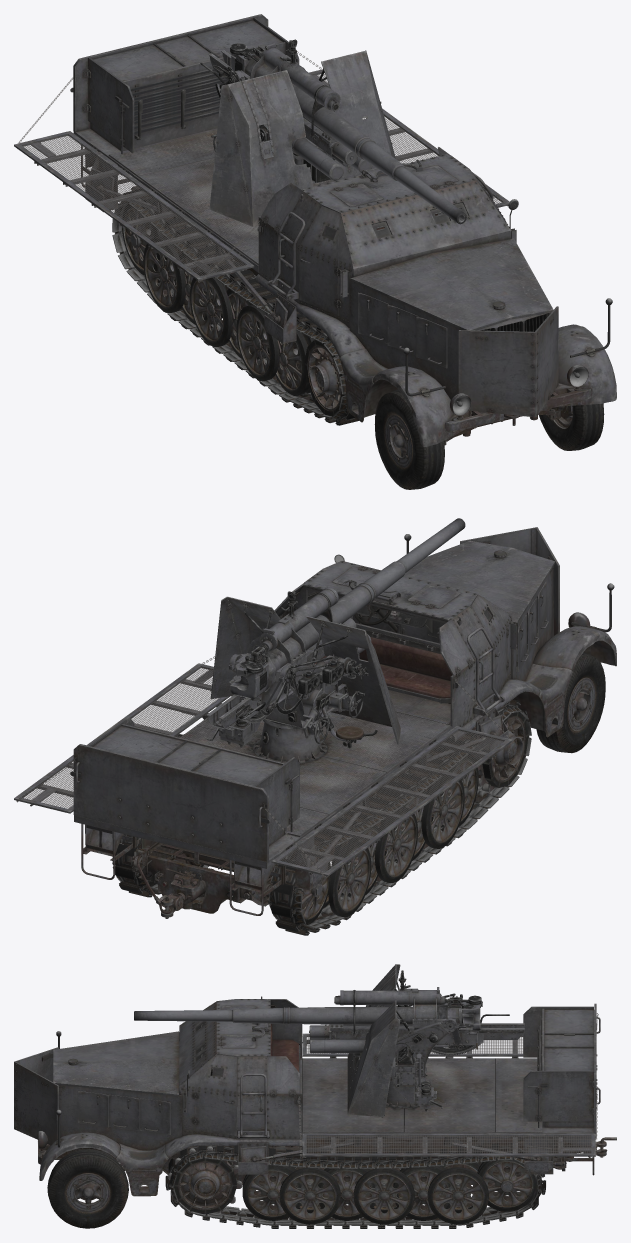
The model's file is flak88_sfl.glb.
3 renders of one model, top to bottom at view 1: azimuth 30°, elevation 25°; view 2: azimuth 150°, elevation 25°; view 3: azimuth 270°, elevation 25°, orthographic. The views are drawn at different scales.
Parts seen in each view (by area): view 1: Object_14, Object_13, Object_15, Object_16, Object_20, Object_7, Object_21, Object_10, Object_4, Object_11, Object_18, Object_8 (+1 smaller); view 2: Object_14, Object_13, Object_15, Object_7, Object_20, Object_21, Object_4, Object_10, Object_11, Object_16, Object_18, Object_12 (+1 smaller); view 3: Object_14, Object_13, Object_8, Object_15, Object_21, Object_2, Object_16, Object_9, Object_20, Object_7, Object_18, Object_10.
Boxes of the visible parts, <box> form: Object_14: <box>70,14,553,422</box>; Object_13: <box>92,51,592,436</box>; Object_15: <box>14,69,616,447</box>; Object_16: <box>85,152,588,420</box>; Object_20: <box>215,50,392,226</box>; Object_7: <box>22,72,502,275</box>; Object_21: <box>209,43,466,226</box>; Object_10: <box>236,305,444,489</box>; Object_4: <box>112,189,358,425</box>; Object_11: <box>122,203,272,359</box>; Object_18: <box>200,39,357,166</box>; Object_8: <box>539,403,604,450</box>; Object_14: <box>70,540,572,906</box>; Object_13: <box>74,550,553,913</box>; Object_15: <box>14,534,616,918</box>; Object_7: <box>23,667,503,871</box>; Object_20: <box>207,596,398,747</box>; Object_21: <box>210,518,465,763</box>; Object_4: <box>269,699,531,935</box>; Object_10: <box>421,652,605,848</box>; Object_11: <box>281,790,431,924</box>; Object_16: <box>295,527,590,890</box>; Object_18: <box>206,587,356,729</box>; Object_12: <box>469,702,528,792</box>; Object_14: <box>53,1001,596,1196</box>; Object_13: <box>38,996,600,1181</box>; Object_8: <box>47,1149,414,1228</box>; Object_15: <box>39,1031,616,1180</box>; Object_21: <box>134,964,482,1117</box>; Object_2: <box>165,1143,545,1228</box>; Object_16: <box>14,1006,453,1165</box>; Object_9: <box>393,1157,537,1224</box>; Object_20: <box>309,964,459,1117</box>; Object_7: <box>306,1036,591,1153</box>; Object_18: <box>309,970,524,1055</box>; Object_10: <box>168,1146,242,1214</box>.
Size of the model in its own units: 4.2 by 3.6 by 8.81.
Materials: 10 (10 with a texture image).
